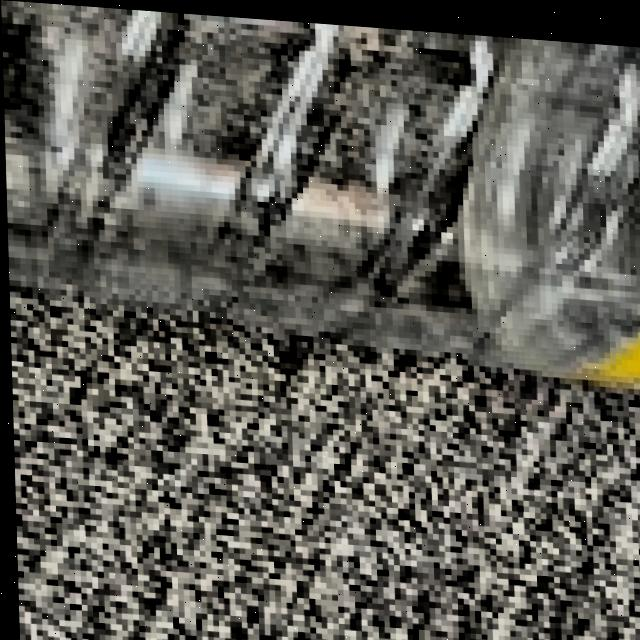plastic: (0, 1, 640, 386)
